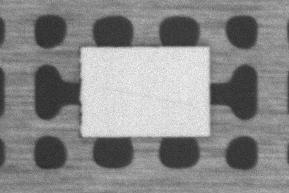DIE_CRACK: (148, 58, 288, 70)
